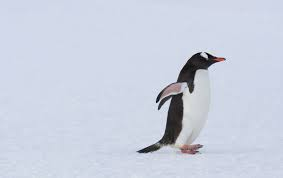Walking: (121, 41, 225, 162)
